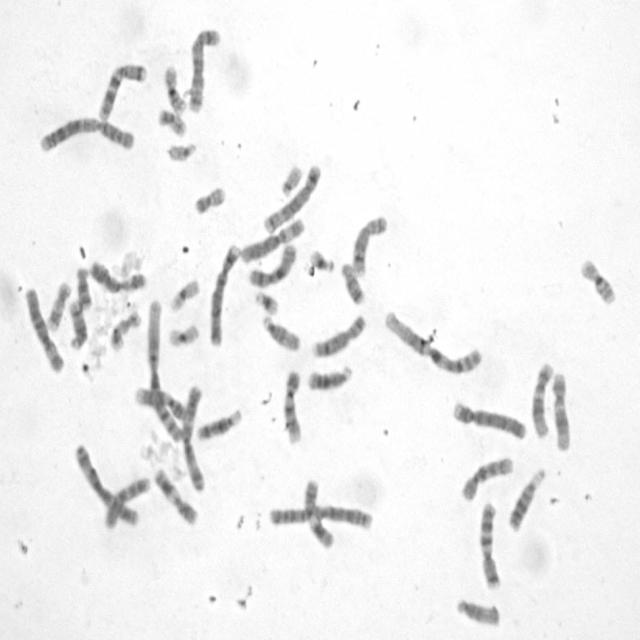A1: (381, 306, 484, 376), (144, 295, 184, 444)
A2: (36, 113, 136, 154), (268, 502, 374, 531)
A3: (72, 440, 140, 528), (179, 382, 206, 494)
B4: (206, 241, 241, 347), (449, 397, 528, 442)
B5: (260, 160, 322, 235), (185, 24, 222, 114)
C10: (459, 453, 515, 503), (103, 474, 152, 529)
C11: (150, 464, 198, 526), (302, 475, 336, 549)
C12: (529, 360, 555, 440), (550, 369, 573, 452)
C6: (22, 284, 64, 374), (238, 215, 306, 264)
C7: (95, 59, 148, 123), (477, 498, 502, 591)
C8: (311, 311, 367, 360), (350, 211, 389, 278)
C9: (132, 381, 188, 423), (280, 366, 304, 445)
D13: (505, 466, 547, 534), (304, 362, 354, 392)
D14: (194, 406, 244, 442), (65, 296, 89, 352)
D15: (260, 311, 302, 353), (454, 596, 501, 627)
E16: (577, 254, 617, 306), (161, 62, 187, 115)
E17: (44, 278, 73, 332), (107, 308, 142, 352)
E18: (339, 258, 366, 306), (73, 263, 94, 310)
F19: (167, 275, 201, 314), (166, 319, 201, 349)
F20: (191, 182, 228, 216), (154, 106, 188, 138)
G21: (307, 244, 336, 274), (252, 288, 280, 316)
G22: (278, 161, 304, 198), (165, 139, 197, 164)
X: (245, 241, 298, 288), (88, 256, 148, 294)
